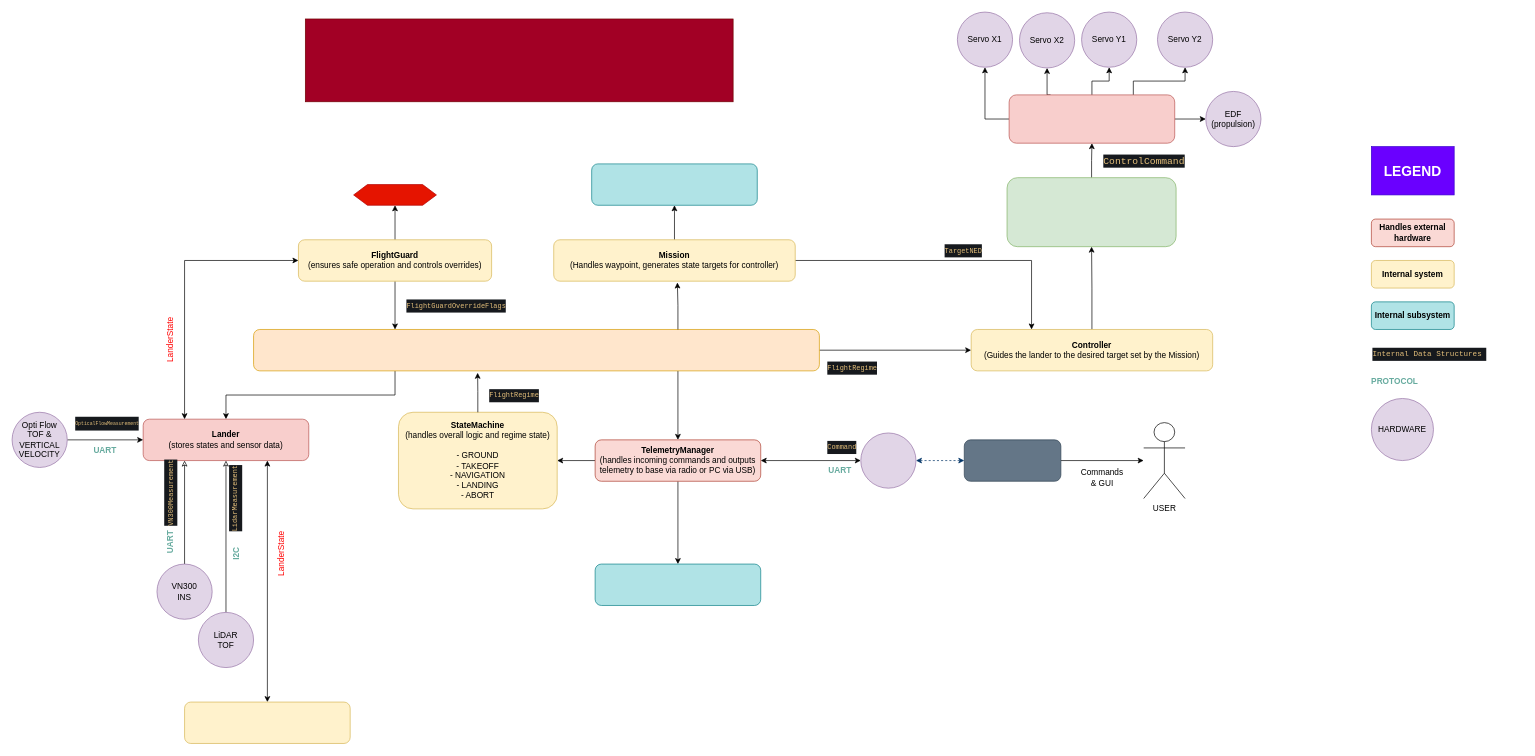
Image size: 1535x756. Some labels were removed from this diagram. The shapes that lost their labels are listed below. From the top down, each one's centre as x and y in pixels, then its label:
At point (519, 60): "INTERNAL ARCHITECTURE".
At point (1091, 118): "MotorManager Mixes ControlCommand and outputs signals to EDF and Servos".
At point (394, 194): "ABORT".
At point (674, 184): "Waypoint Stores target NED position and Yaw, tolerance and hold time".
At point (1091, 212): "PID CASCADE".
At point (536, 350): "FlightManager (Singleton representing LEONIDAS".
At point (888, 460): "RADIO".
At point (1012, 460): "BASE STATION".
At point (677, 584): "CommandHandler (Parses commands and executes them)".
At point (267, 722): "StateEstimator (generates state estimations from available sensor data)".
